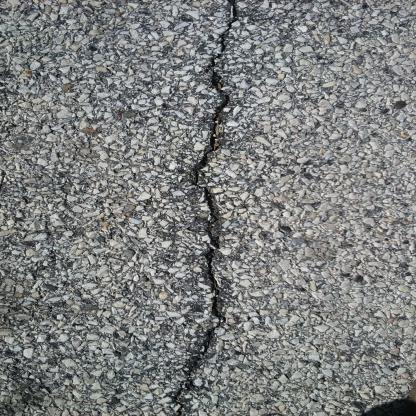Cracks: (158, 1, 254, 416)
